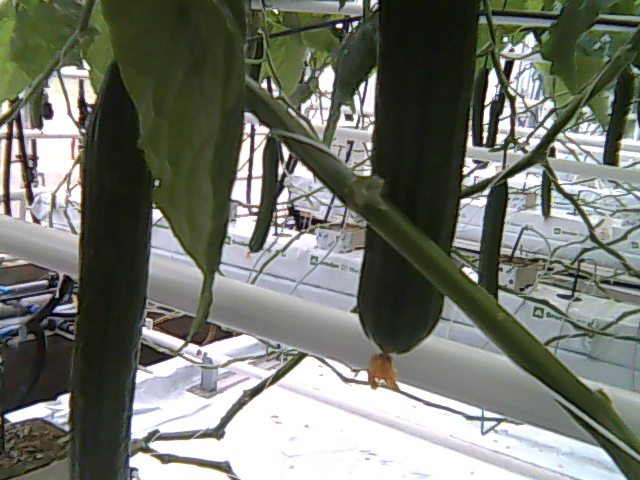concombre: (357, 1, 480, 393), (66, 55, 158, 480)
